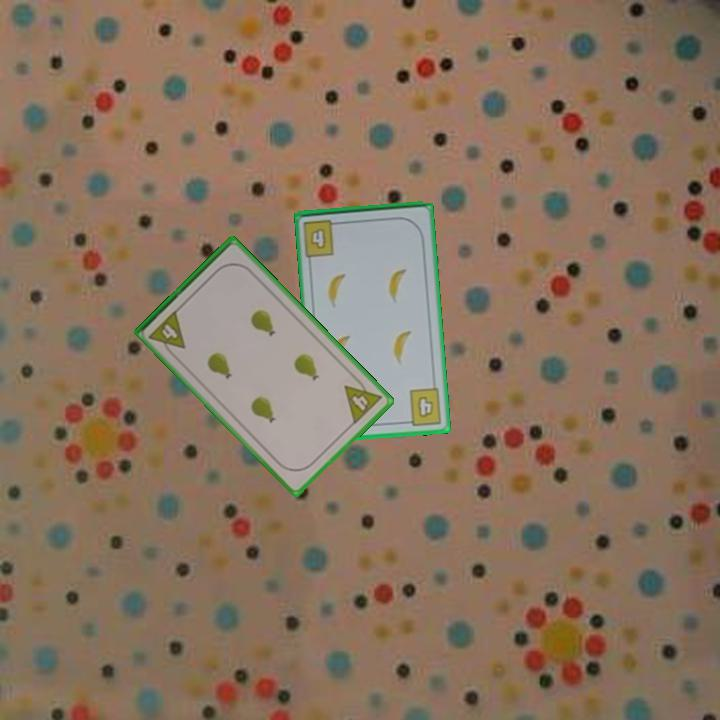4b: (401, 384, 445, 428), (299, 216, 344, 259)
4p: (341, 372, 385, 427), (145, 306, 189, 360)
